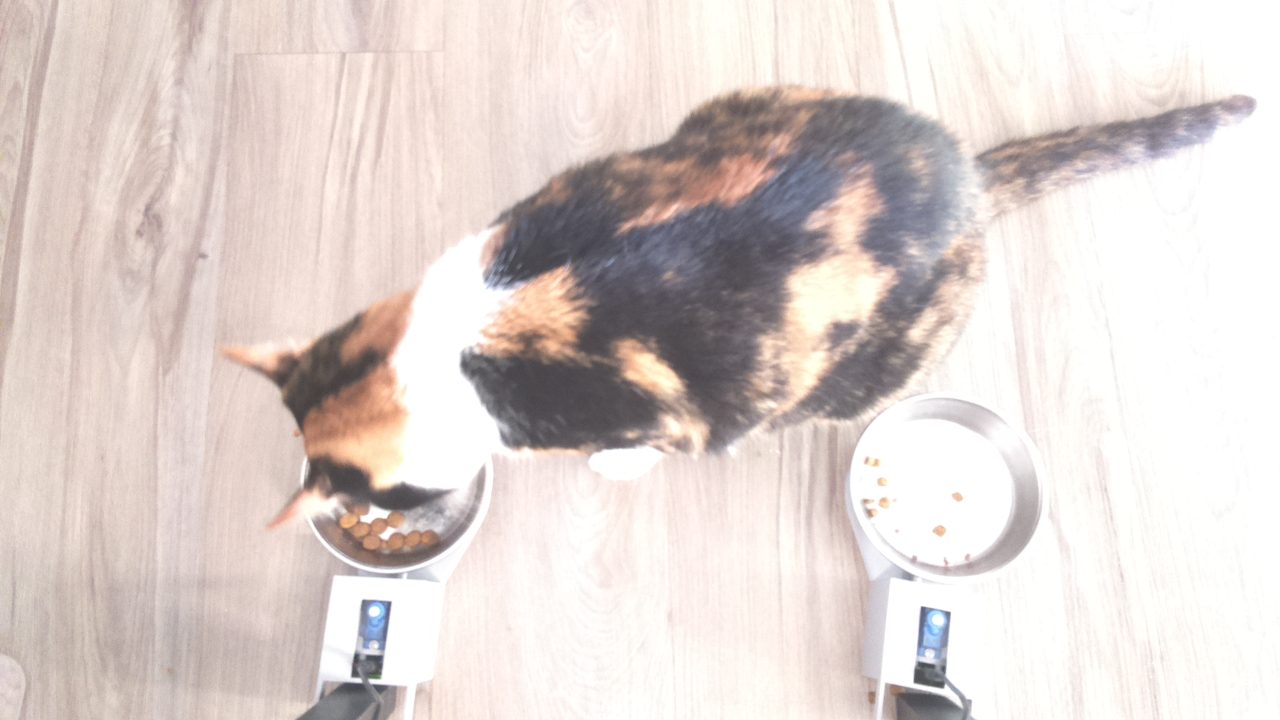bella_eating: (213, 275, 506, 584)
open_bowl: (859, 393, 1045, 586)
